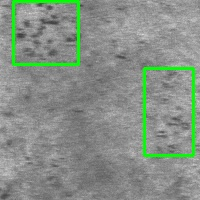rolled-in_scale: (144, 68, 193, 155), (13, 1, 78, 64)
